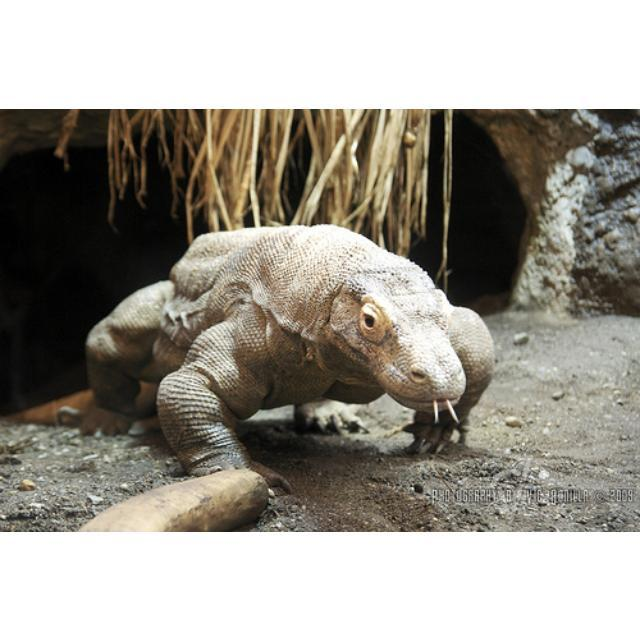KomodoDragon: (55, 222, 495, 501)
